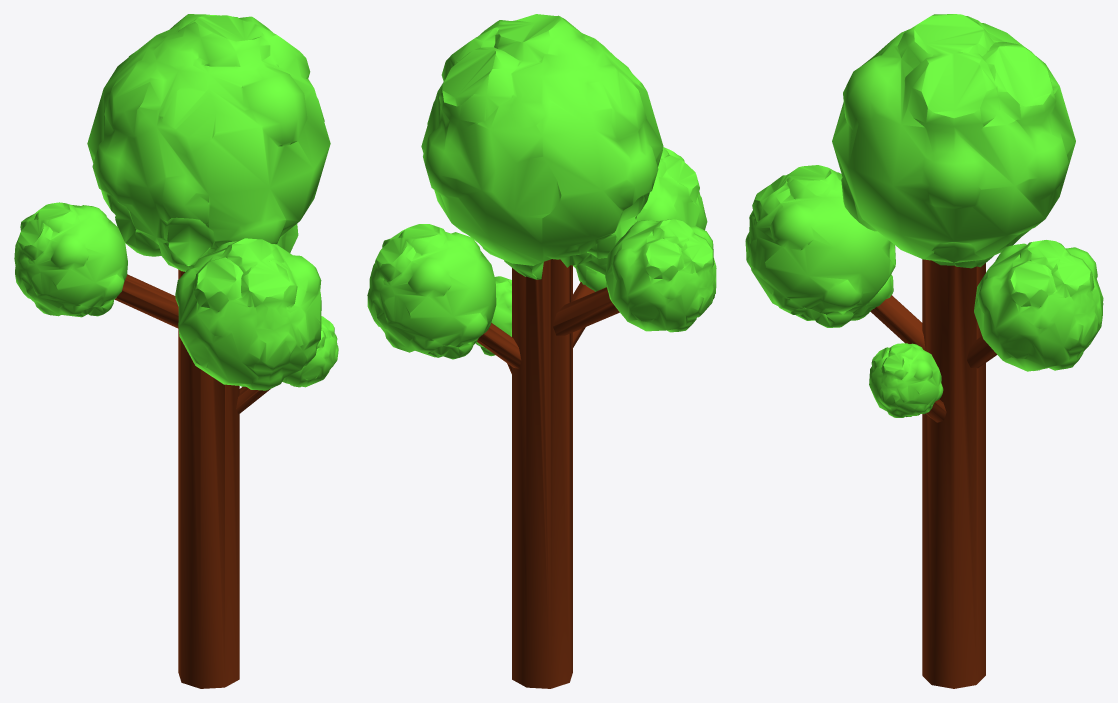
File: round_tree_shapes.gltf
The picture shows the model from 3 angles, left to right: view 1: azimuth 30°, elevation 25°; view 2: azimuth 150°, elevation 25°; view 3: azimuth 270°, elevation 25°; orthographic projection.
Visible parts, largest first — view 1: Trunk2, Branch022, Branch012, Branch042; view 2: Trunk2, Branch032, Branch012, Branch022, Branch042; view 3: Trunk2, Branch022, Branch032, Branch042.
Part boxes in pixels (x1=…): Trunk2: x1=87, y1=14, x2=330, y2=688; Branch022: x1=175, y1=238, x2=321, y2=390; Branch012: x1=14, y1=202, x2=178, y2=328; Branch042: x1=236, y1=316, x2=338, y2=414; Trunk2: x1=421, y1=14, x2=663, y2=688; Branch032: x1=367, y1=224, x2=521, y2=368; Branch012: x1=553, y1=219, x2=716, y2=335; Branch022: x1=573, y1=147, x2=707, y2=347; Branch042: x1=475, y1=276, x2=511, y2=373; Trunk2: x1=832, y1=14, x2=1075, y2=688; Branch022: x1=745, y1=165, x2=925, y2=350; Branch032: x1=967, y1=240, x2=1103, y2=371; Branch042: x1=869, y1=343, x2=946, y2=422.
Size of the model in its own units: 7.28 by 14.96 by 7.4.
